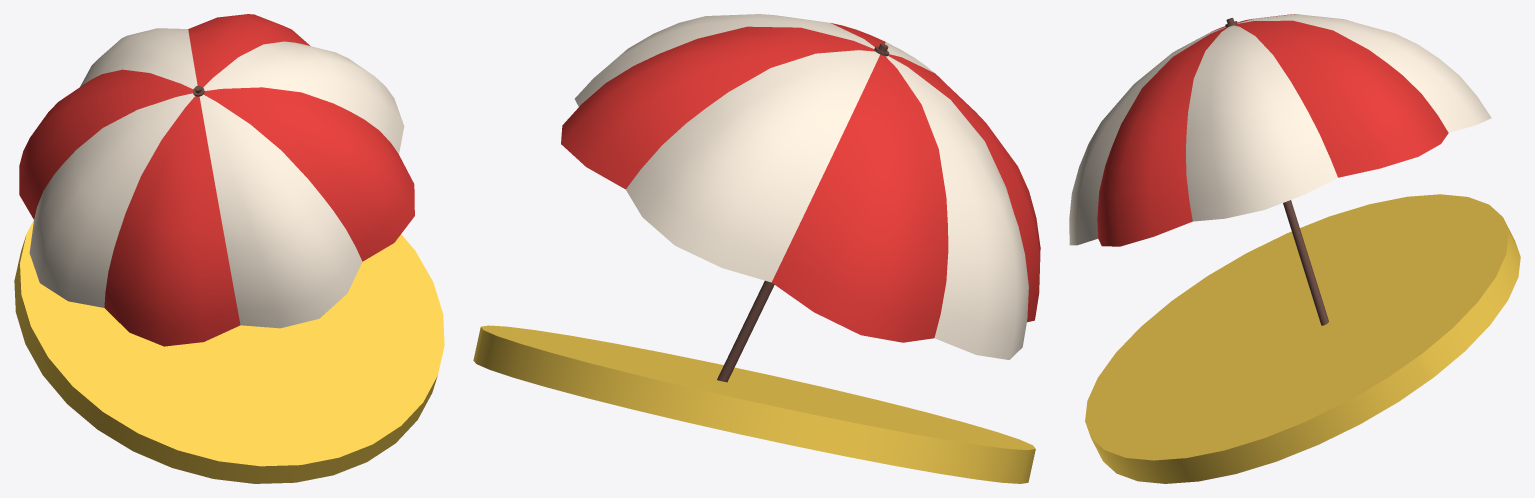
File: umbrella_on_ground.glb
3 views of the same model, side by side, from view 1: azimuth 30°, elevation 25°; view 2: azimuth 150°, elevation 25°; view 3: azimuth 270°, elevation 25° (orthographic). The views are drawn at different scales.
Parts seen in each view (by area): view 1: Circle.2509; view 2: Circle.2509; view 3: Circle.2509.
Part boxes in pixels (box(x1,y1,x2,y2)): Circle.2509: box(14, 14, 444, 483); Circle.2509: box(473, 14, 1040, 483); Circle.2509: box(1069, 14, 1520, 483).
Size of the model in its own units: 2.31 by 2.16 by 2.2.
1 material, 1 textured.
